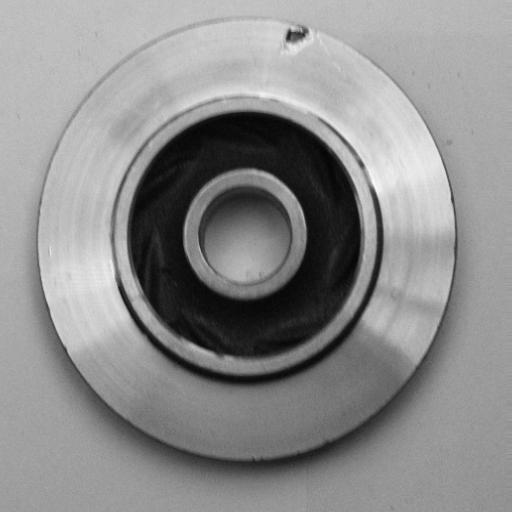crack: (280, 14, 323, 59)
unpolished_casting: (34, 15, 459, 469)
